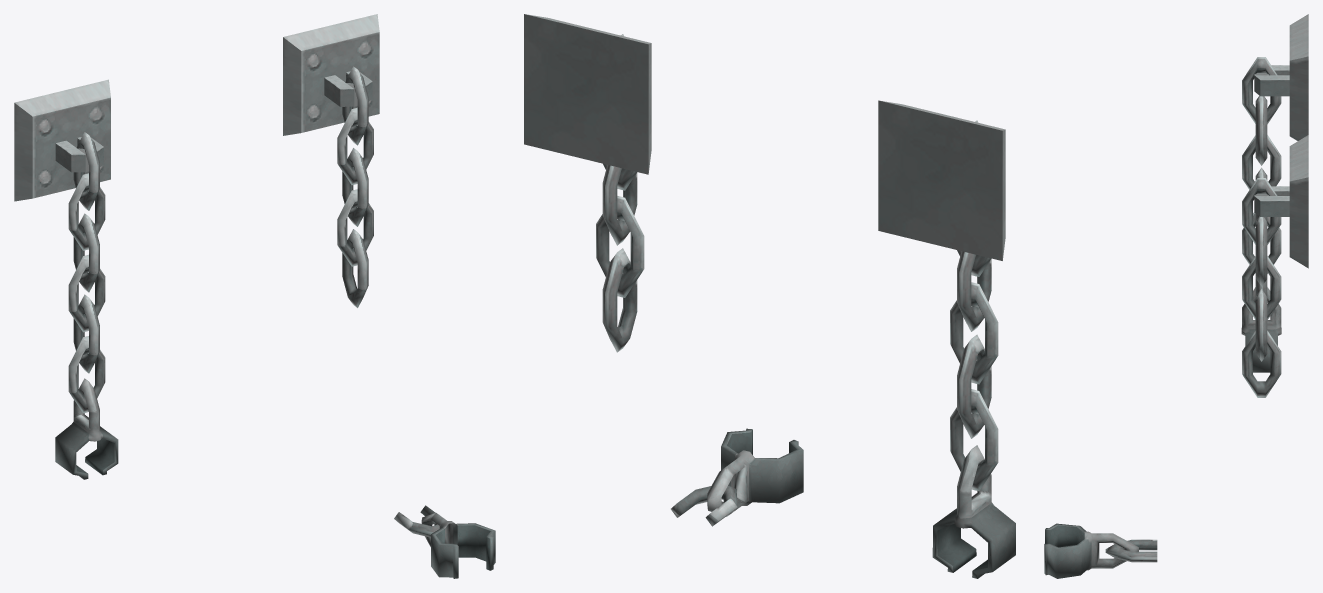
The model's file is Chain02.fbx.
3 renders of one model, left to right at view 1: azimuth 30°, elevation 25°; view 2: azimuth 150°, elevation 25°; view 3: azimuth 270°, elevation 25°, orthographic. The views are drawn at different scales.
Visible parts, largest first — view 1: Cube; view 2: Cube; view 3: Cube.
Boxes of the visible parts, x1,y1,x2,y2 form: Cube: [14, 14, 495, 578]; Cube: [524, 14, 1015, 578]; Cube: [1044, 14, 1308, 578].
Size of the model in its own units: 0.8329 by 0.9824 by 0.5691.
1 material, 1 textured.
